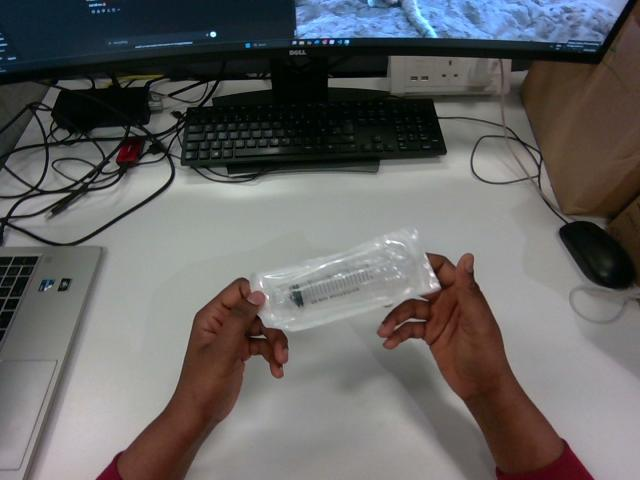syringe: (250, 229, 439, 330)
